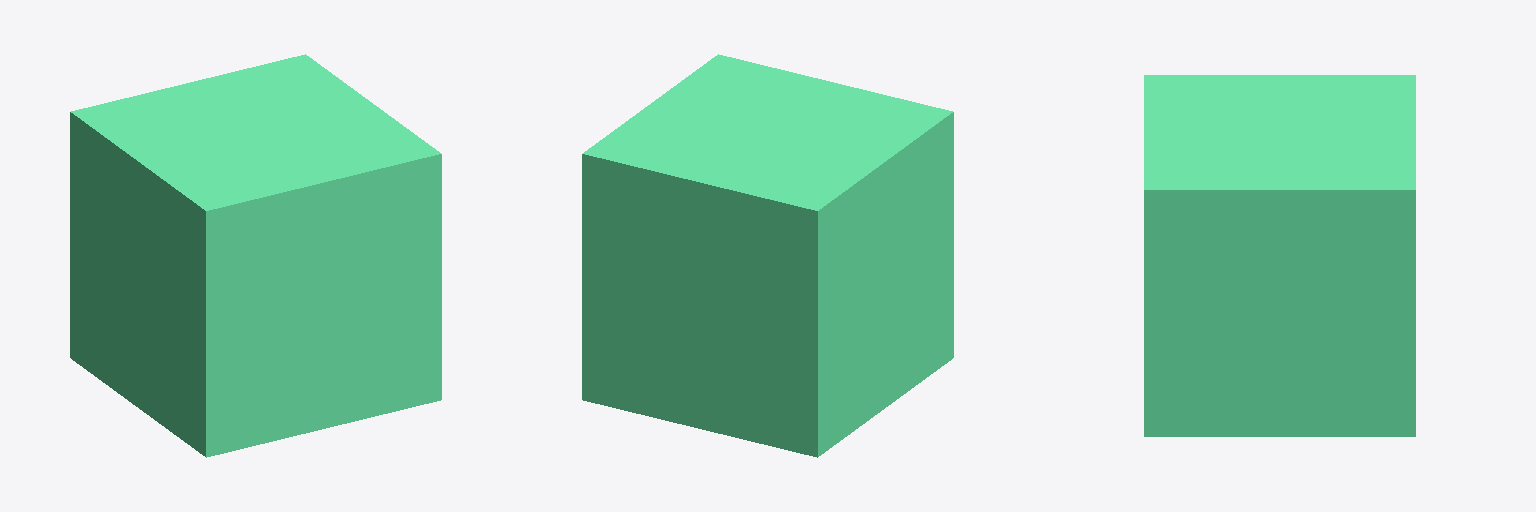
3 views of the same model, side by side, from view 1: azimuth 30°, elevation 25°; view 2: azimuth 150°, elevation 25°; view 3: azimuth 270°, elevation 25° (orthographic).
Visible parts, largest first — view 1: Bullet; view 2: Bullet; view 3: Bullet.
Boxes of the visible parts, <box> form: Bullet: <box>70,54,441,457</box>; Bullet: <box>582,54,953,457</box>; Bullet: <box>1144,75,1415,436</box>.
Bounding box in the file's own units: 0.6 × 0.6 × 0.6.
1 materials, 1 textured.